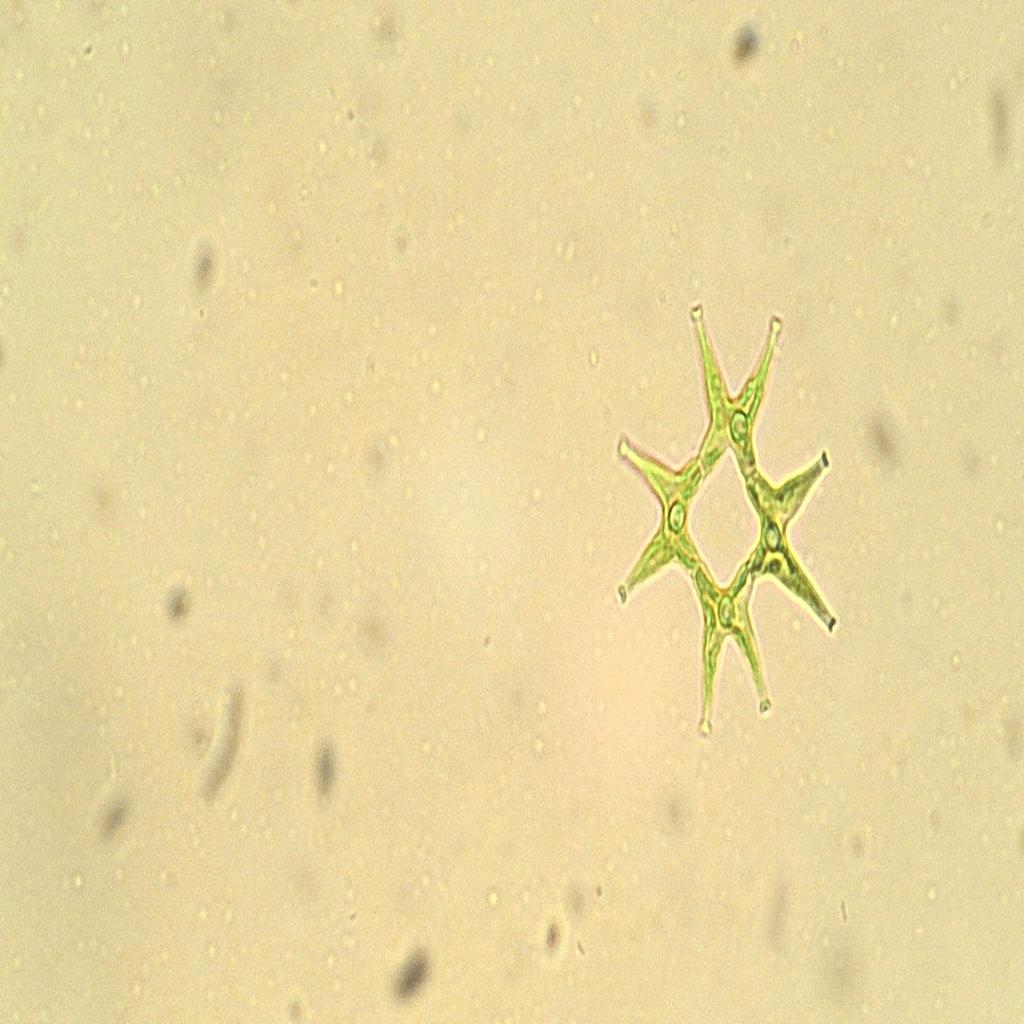Pediastrum_CO: (605, 268, 846, 758)
